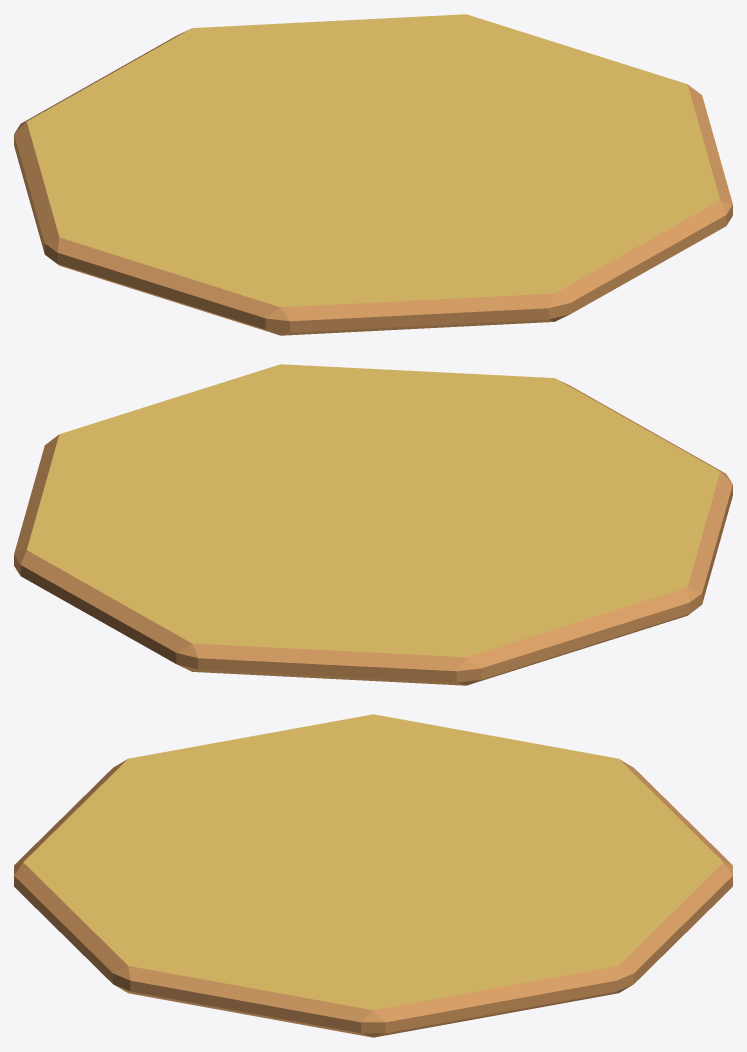
File: OmeletteCooked.fbx
3 views of the same model, one above another, from view 1: azimuth 30°, elevation 25°; view 2: azimuth 150°, elevation 25°; view 3: azimuth 270°, elevation 25° (orthographic). The views are drawn at different scales.
Visible parts, largest first — view 1: OmeletteCooked; view 2: OmeletteCooked; view 3: OmeletteCooked.
Part boxes in pixels (x1,y1,x2,y2): OmeletteCooked: (14, 14, 732, 335); OmeletteCooked: (14, 364, 732, 685); OmeletteCooked: (14, 714, 732, 1037).
Bounding box in the file's own units: 197 × 8.29 × 197.
